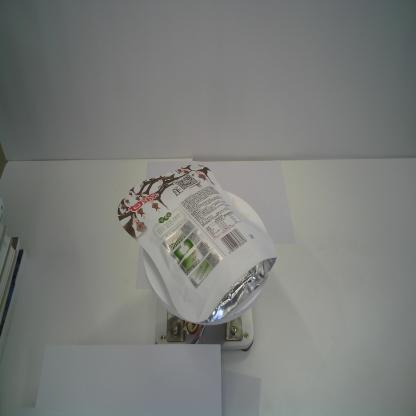Dried Fruit: (117, 159, 277, 326)
